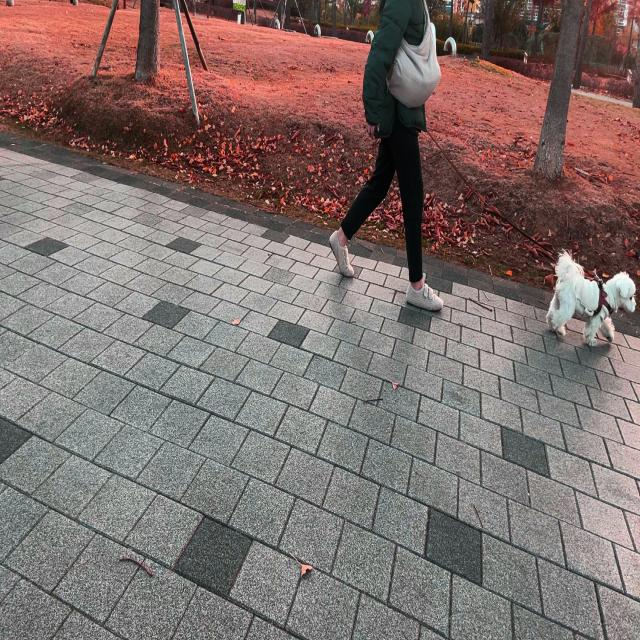Leashed_Dog: (405, 125, 637, 347)
